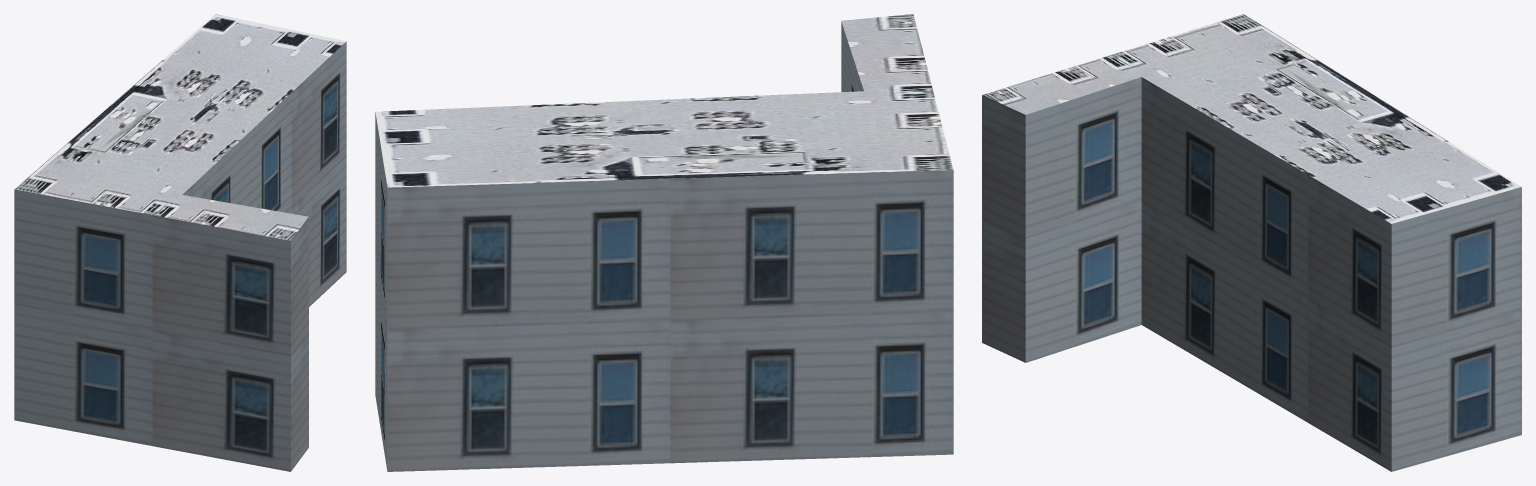
The model's file is ResTex__5184.fbx.
3 views of the same model, side by side, from view 1: azimuth 30°, elevation 25°; view 2: azimuth 150°, elevation 25°; view 3: azimuth 270°, elevation 25° (orthographic). The views are drawn at different scales.
Visible parts, largest first — view 1: CityEngineMaterial_18_m, CityEngineMaterial_m; view 2: CityEngineMaterial_18_m, CityEngineMaterial_m; view 3: CityEngineMaterial_18_m, CityEngineMaterial_m.
Part boxes in pixels (bbox=[...]): CityEngineMaterial_18_m: bbox=[14, 41, 346, 471]; CityEngineMaterial_m: bbox=[15, 14, 346, 240]; CityEngineMaterial_18_m: bbox=[375, 22, 953, 471]; CityEngineMaterial_m: bbox=[375, 14, 953, 187]; CityEngineMaterial_18_m: bbox=[982, 77, 1521, 471]; CityEngineMaterial_m: bbox=[982, 14, 1521, 223].
Bounding box in the file's own units: 10.9 × 6 × 11.83.
Materials: 2 (2 with a texture image).
